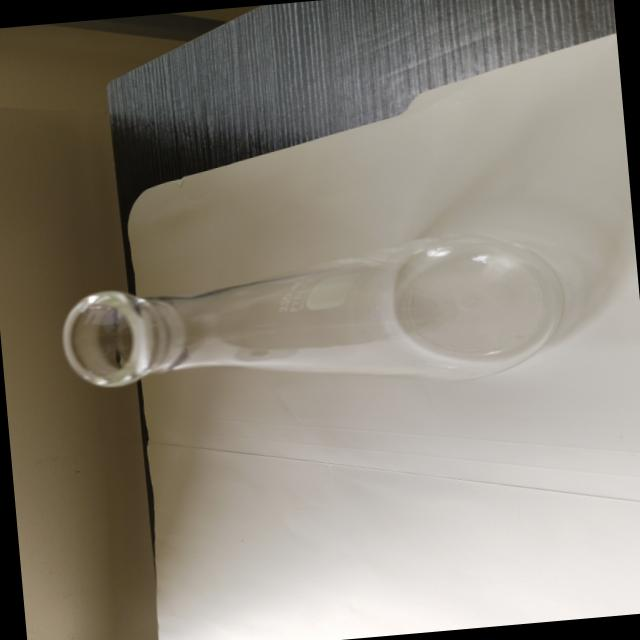erlenmeyer_flask: (40, 218, 578, 422)
